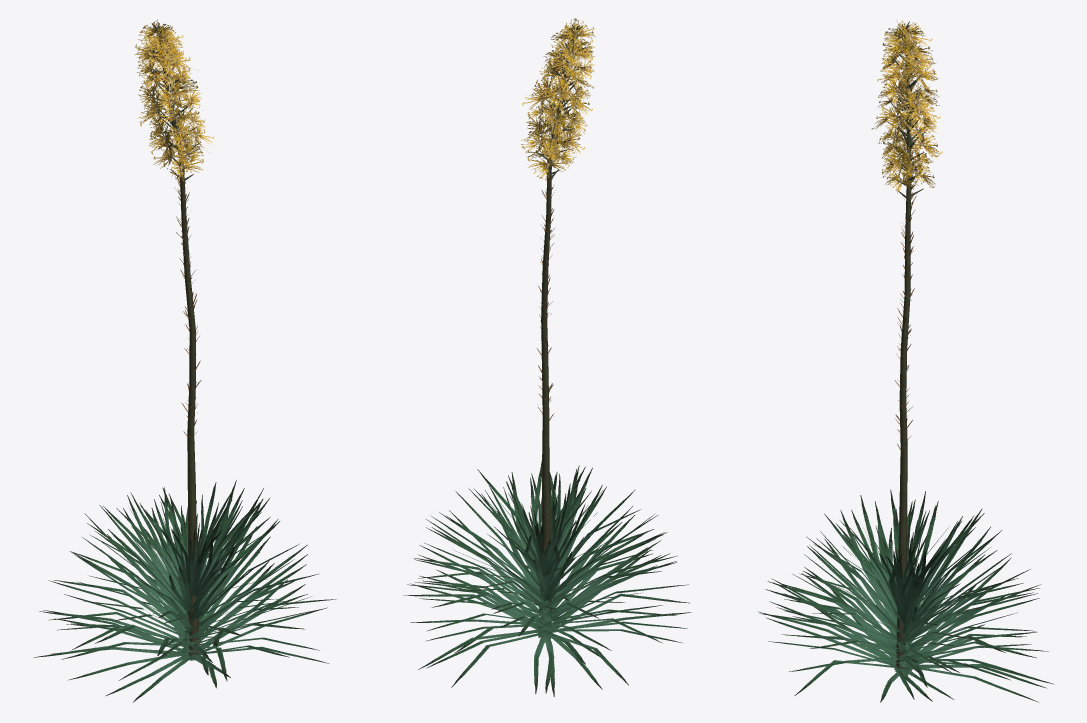
Rendered from Agave_Stricta_Spring_Adult.glb.
3 views of the same model, side by side, from view 1: azimuth 30°, elevation 25°; view 2: azimuth 150°, elevation 25°; view 3: azimuth 270°, elevation 25° (orthographic). The views are drawn at different scales.
Visible parts, largest first — view 1: Agave_Stricta_Spring_Adult__LOD3; view 2: Agave_Stricta_Spring_Adult__LOD3; view 3: Agave_Stricta_Spring_Adult__LOD3.
Part boxes in pixels (left/top/right/bottom): Agave_Stricta_Spring_Adult__LOD3: left=33, top=19, right=336, bottom=702; Agave_Stricta_Spring_Adult__LOD3: left=403, top=18, right=691, bottom=696; Agave_Stricta_Spring_Adult__LOD3: left=758, top=20, right=1053, bottom=702.
Bounding box in the file's own units: 0.9749 × 2.08 × 0.9733.
3 materials, 3 textured.
